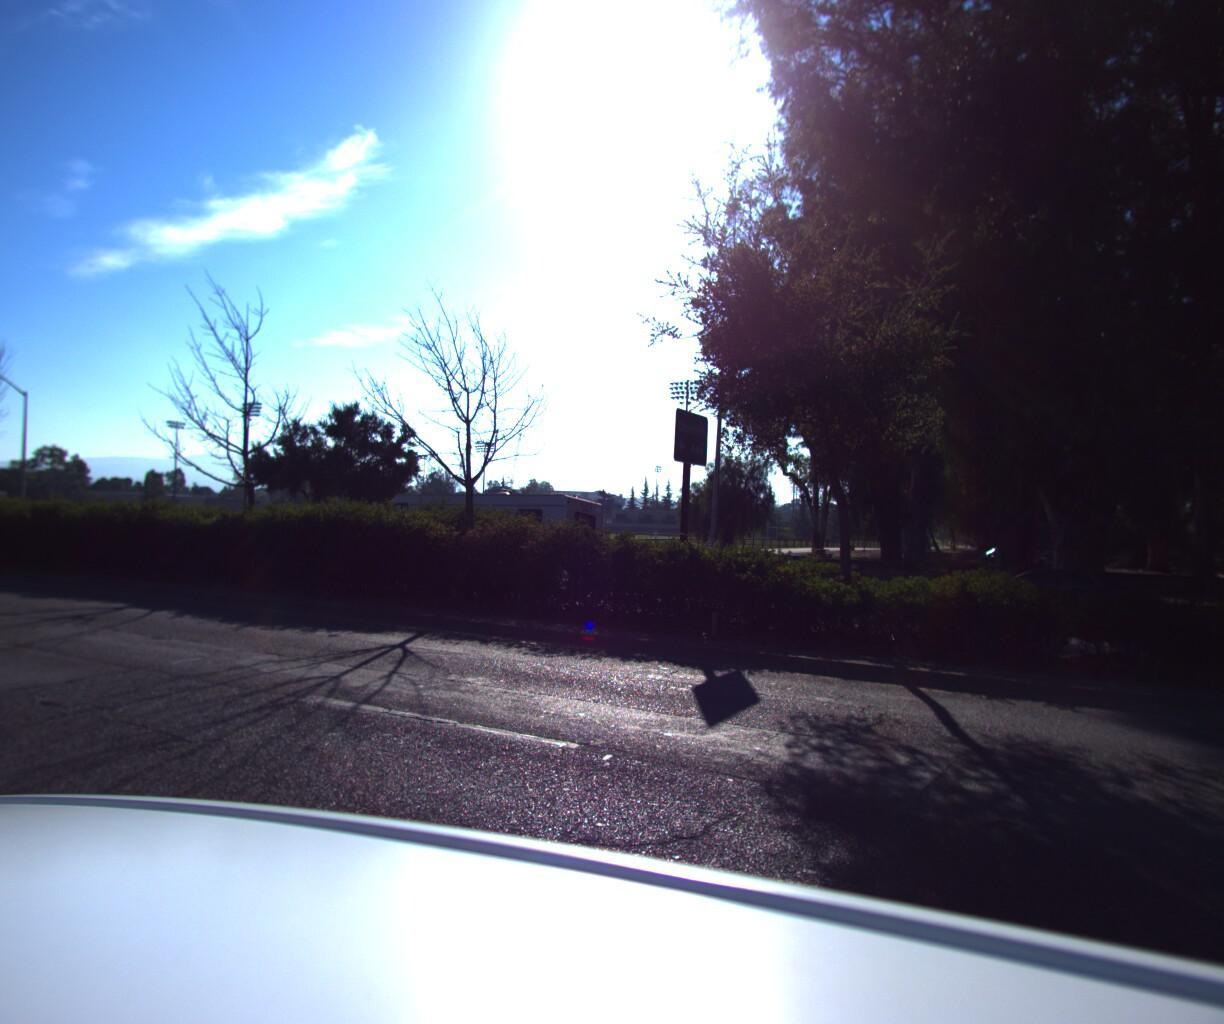car: (941, 561, 1155, 637), (683, 548, 843, 614)
other_vehicle: (354, 483, 622, 595), (0, 486, 13, 548)
